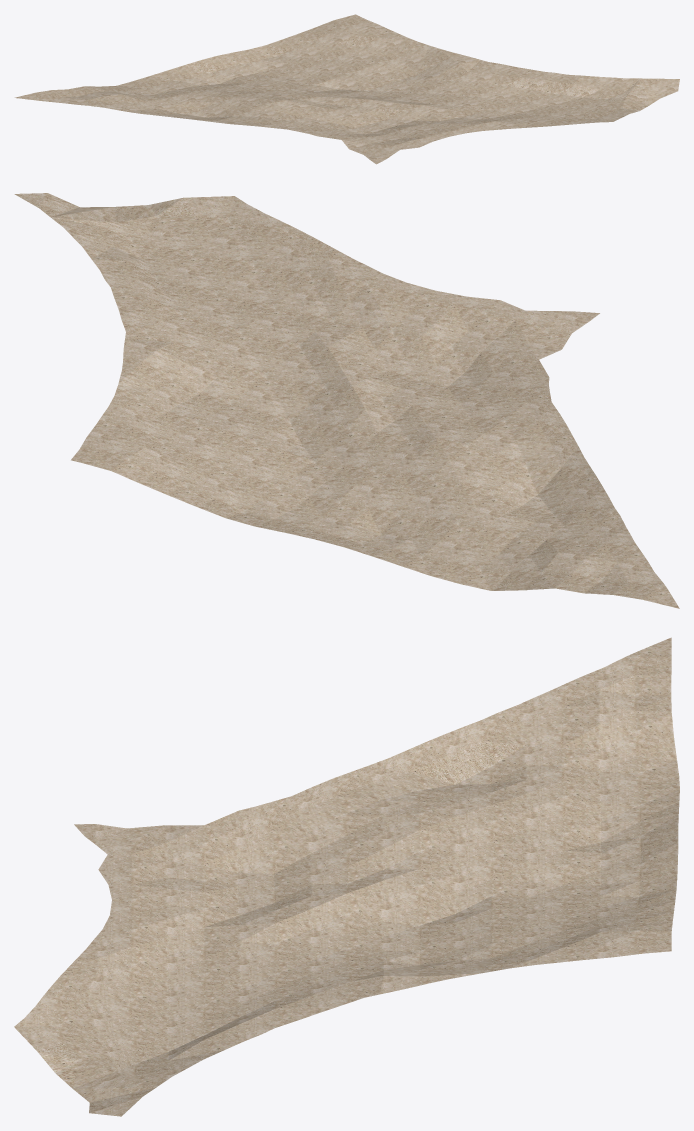
File: c_carisle_mid_seabed_04.fbx
3 views of the same model, one above another, from view 1: azimuth 30°, elevation 25°; view 2: azimuth 150°, elevation 25°; view 3: azimuth 270°, elevation 25° (orthographic). The views are drawn at different scales.
Parts seen in each view (by area): view 1: c_carisle_mid_seabed_04; view 2: c_carisle_mid_seabed_04; view 3: c_carisle_mid_seabed_04.
Part boxes in pixels (x1,y1,x2,y2): c_carisle_mid_seabed_04: (14, 14, 679, 164); c_carisle_mid_seabed_04: (14, 193, 679, 608); c_carisle_mid_seabed_04: (14, 637, 679, 1116).
Bounding box in the file's own units: 63.97 × 37.71 × 2.13.
